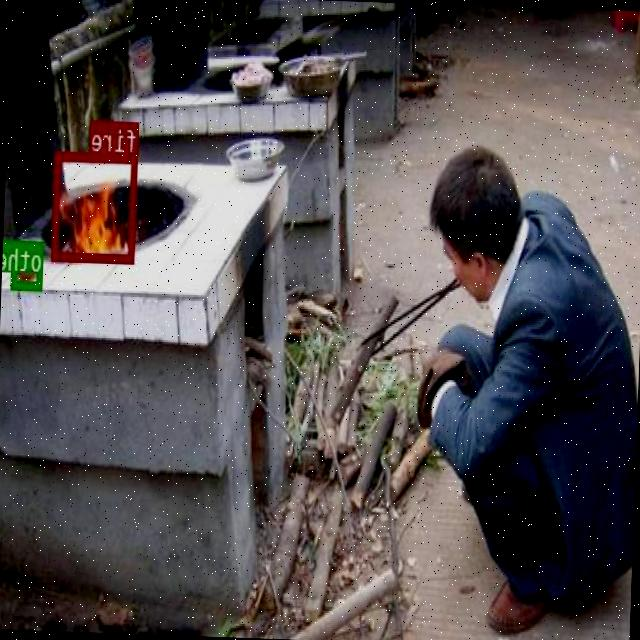fire: (52, 150, 138, 262)
